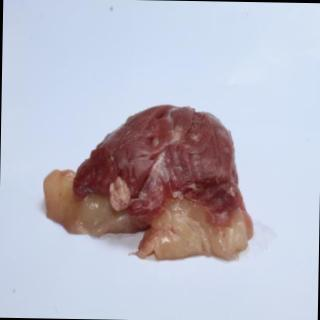Daging Sapi: (44, 106, 255, 261)
